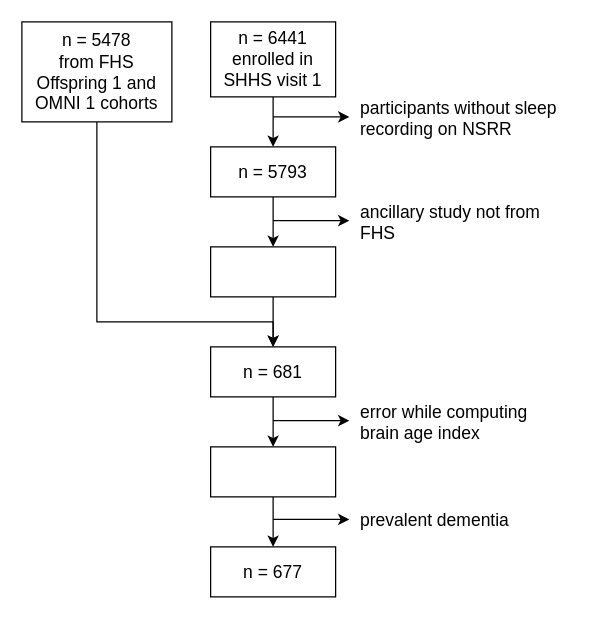
The diagram is 594 pixels wide and 619 high, and some of its shapes have lost their labels. The shapes that lost their labels are listed below. From the top down, each one's centre as x and y in pixels, then its label:
At pixel 272 271: "n = 687".
At pixel 272 471: "n = 678".
